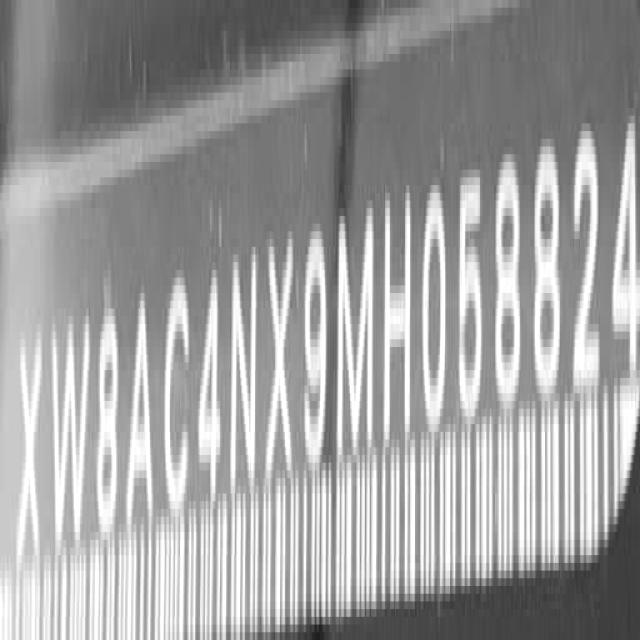0: (417, 169, 448, 434)
2: (571, 114, 604, 400)
4: (612, 92, 640, 386), (198, 271, 222, 511)
5: (454, 154, 484, 423)
8: (528, 140, 564, 411), (490, 143, 522, 420), (94, 297, 119, 551)
9: (301, 214, 333, 471)
A: (125, 291, 156, 540)
C: (159, 266, 192, 506)
H: (382, 180, 412, 446)
M: (336, 191, 374, 457)
N: (229, 243, 257, 517)
W: (50, 322, 93, 560)
X: (264, 212, 296, 488), (16, 328, 43, 574)
